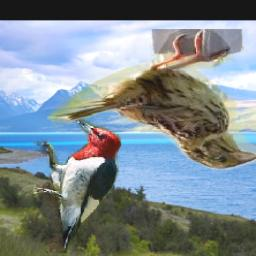Sparrow: (47, 29, 256, 171)
Woodpecker: (33, 117, 121, 253)
